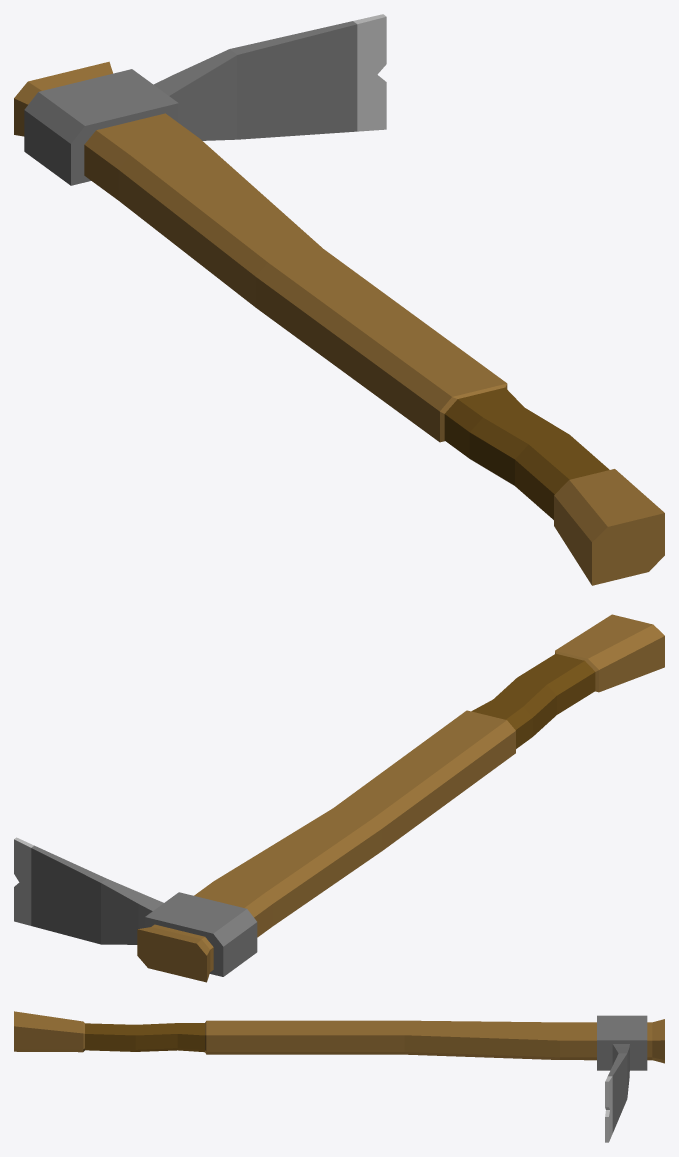
Rendered from Stone_Hoe.fbx.
The picture shows the model from 3 angles, top to bottom: view 1: azimuth 30°, elevation 25°; view 2: azimuth 150°, elevation 25°; view 3: azimuth 270°, elevation 25°; orthographic projection. The views are drawn at different scales.
Visible parts, largest first — view 1: Obj_Stone_Hoe; view 2: Obj_Stone_Hoe; view 3: Obj_Stone_Hoe.
Boxes of the visible parts, x1=… form: Obj_Stone_Hoe: x1=14, y1=14, x2=664, y2=585; Obj_Stone_Hoe: x1=14, y1=614, x2=664, y2=982; Obj_Stone_Hoe: x1=14, y1=1011, x2=664, y2=1142.
Size of the model in its own units: 25.46 by 8.01 by 77.64.
